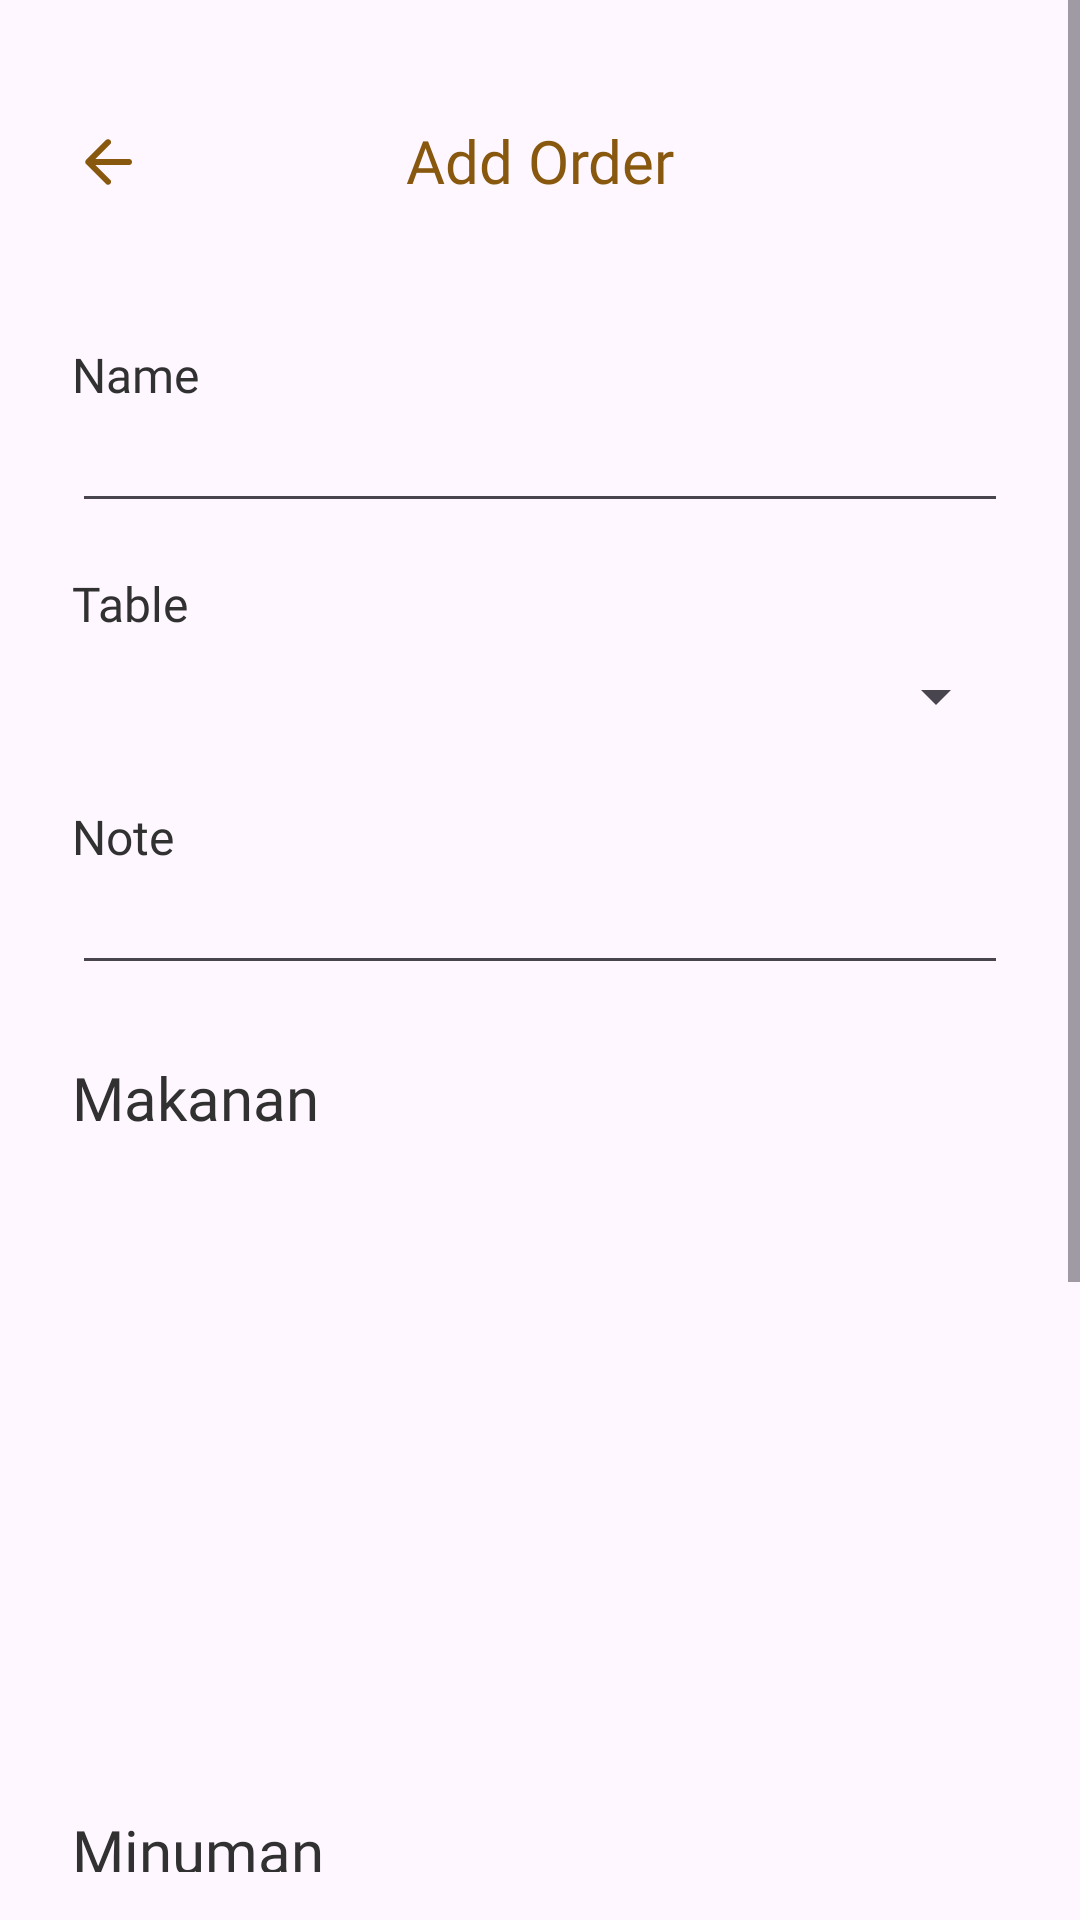

Point at icon controls on the screen. Image size 1080 × 1920, points as (x=x, y=y).
back: (x=108, y=162)
